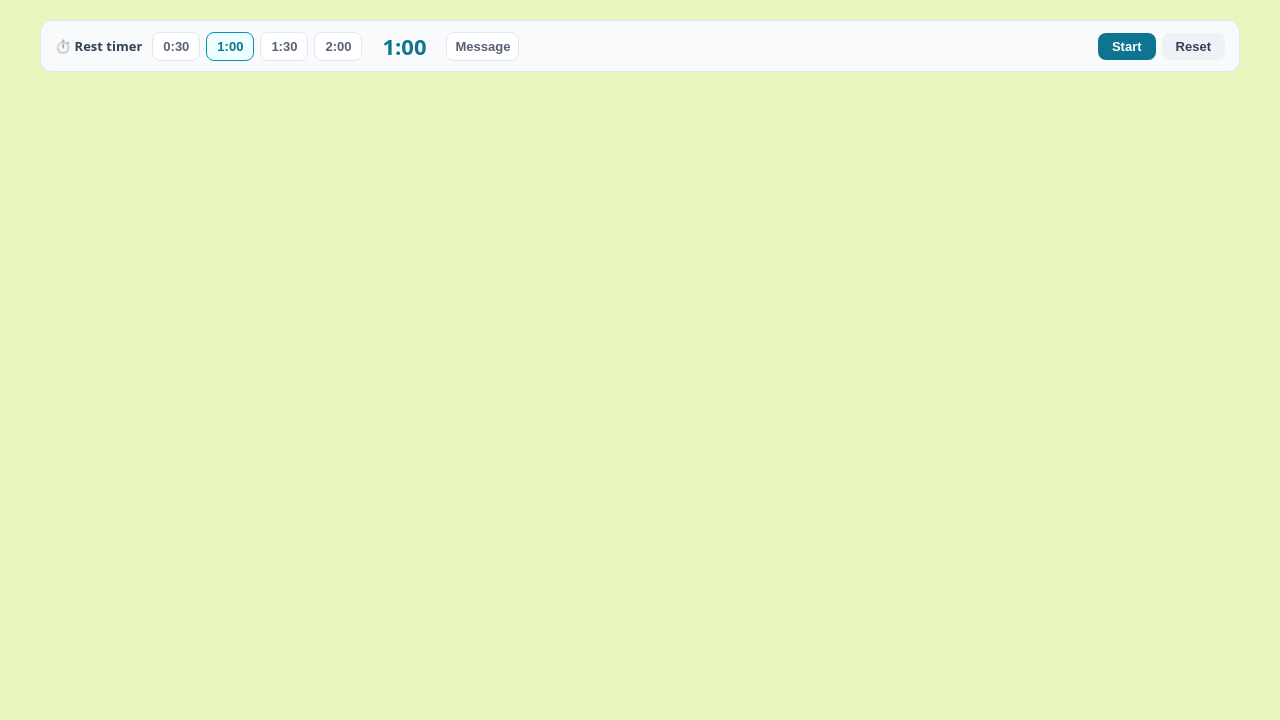
Test: RestTimer › ends at 0:00 with the "Time's up!" cue and stops running
Click the button "0:30" at (176, 46), box left=152, top=32, right=200, bottom=60
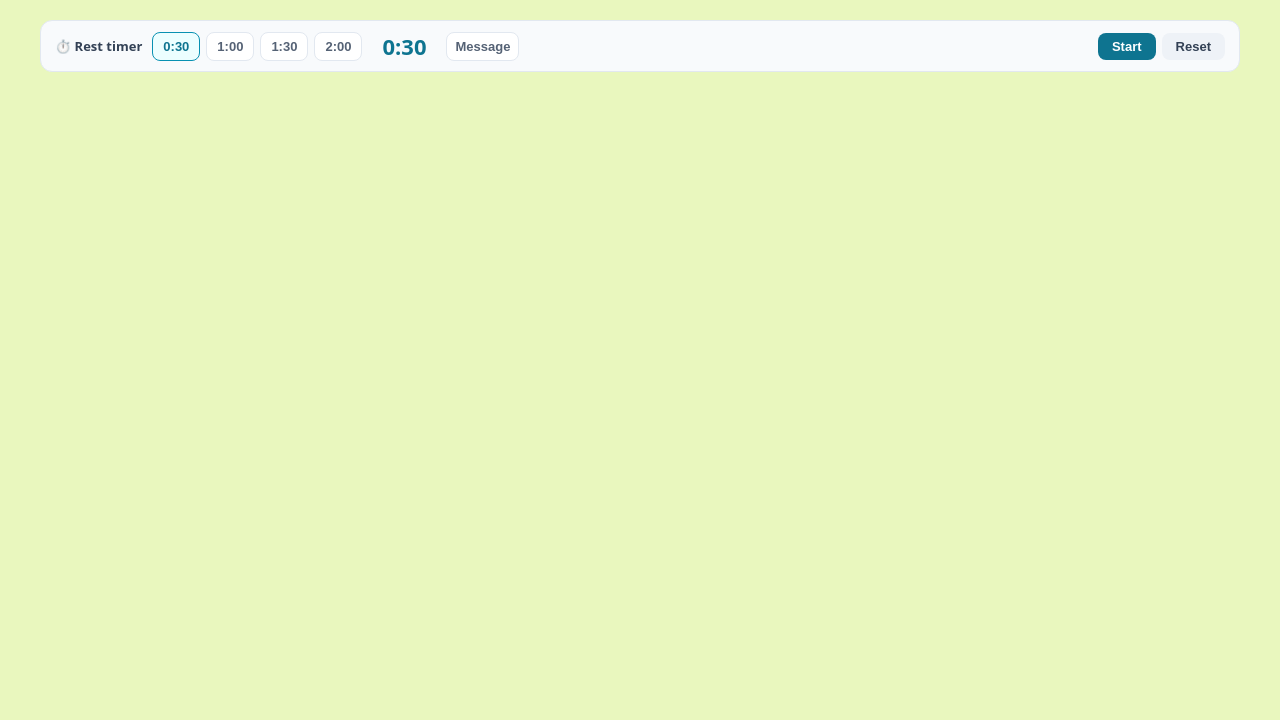
Click the button "Start" at (1127, 46), box left=1098, top=32, right=1156, bottom=60
Wait 30000 ms
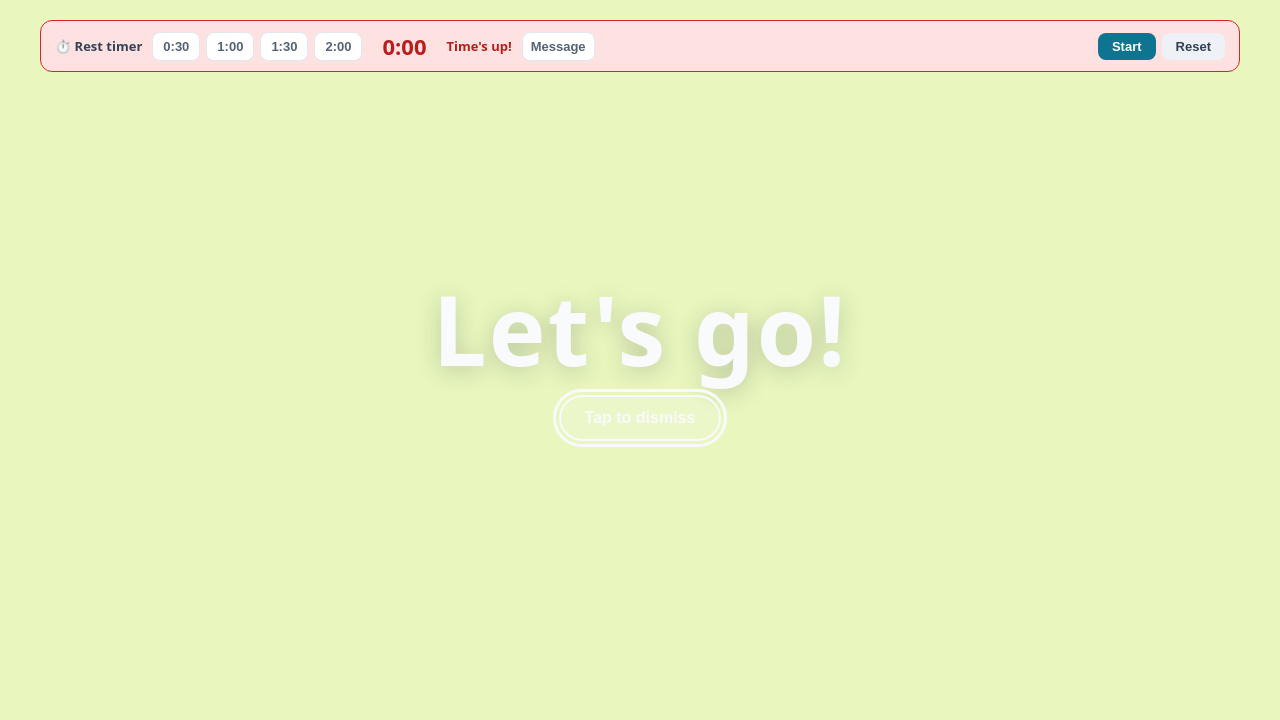
Expected: the text with test id "rest-time" reads "0:00", left=382, top=31, right=426, bottom=61
Expected: the text "Time's up!" is shown, left=446, top=37, right=512, bottom=55
